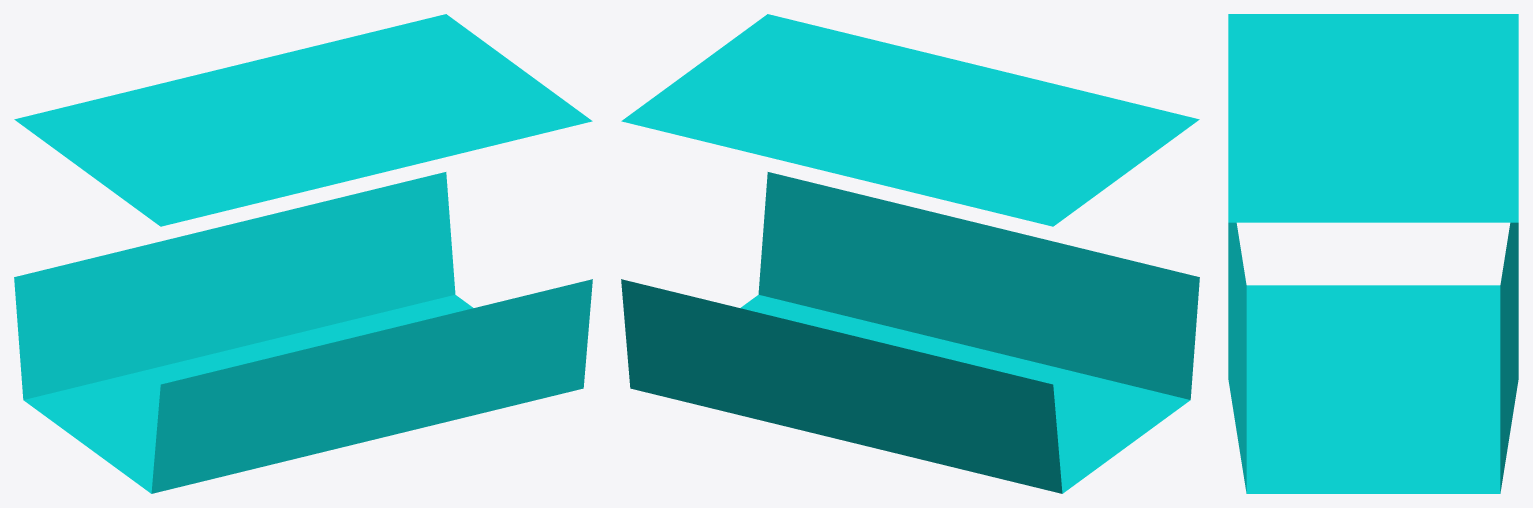
File: 1x1 Gulley.fbx
3 views of the same model, side by side, from view 1: azimuth 30°, elevation 25°; view 2: azimuth 150°, elevation 25°; view 3: azimuth 270°, elevation 25° (orthographic).
Parts seen in each view (by area): view 1: 1x1 Gulley.001; view 2: 1x1 Gulley.001; view 3: 1x1 Gulley.001.
Part boxes in pixels (bbox=[...]): 1x1 Gulley.001: bbox=[14, 14, 592, 493]; 1x1 Gulley.001: bbox=[621, 14, 1199, 493]; 1x1 Gulley.001: bbox=[1228, 14, 1518, 493].
Bounding box in the file's own units: 269 × 163 × 158.
